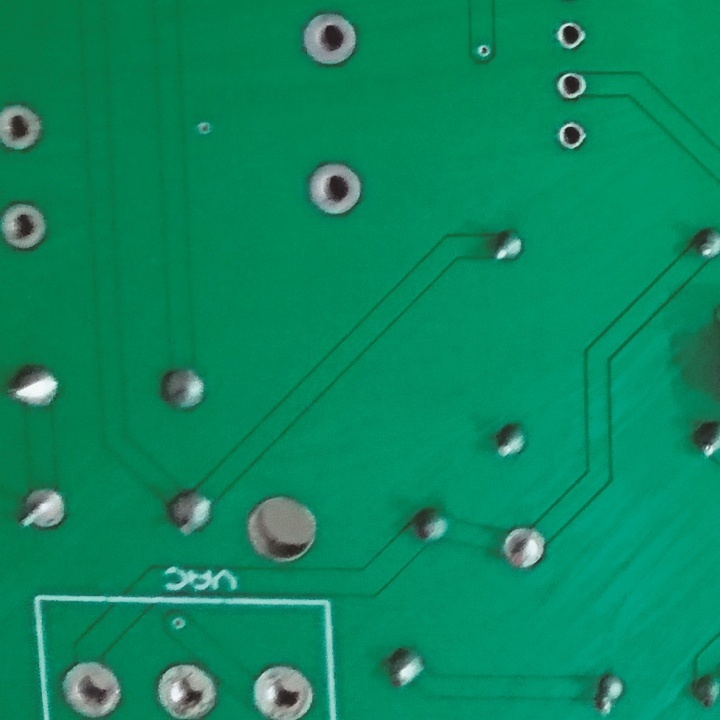F: (56, 658, 123, 720), (250, 662, 318, 720), (299, 10, 360, 73), (155, 660, 219, 720), (307, 158, 363, 218), (1, 198, 53, 250), (1, 100, 49, 154), (19, 483, 67, 535), (504, 525, 547, 575), (554, 69, 589, 100), (557, 120, 589, 152), (556, 20, 587, 52)
